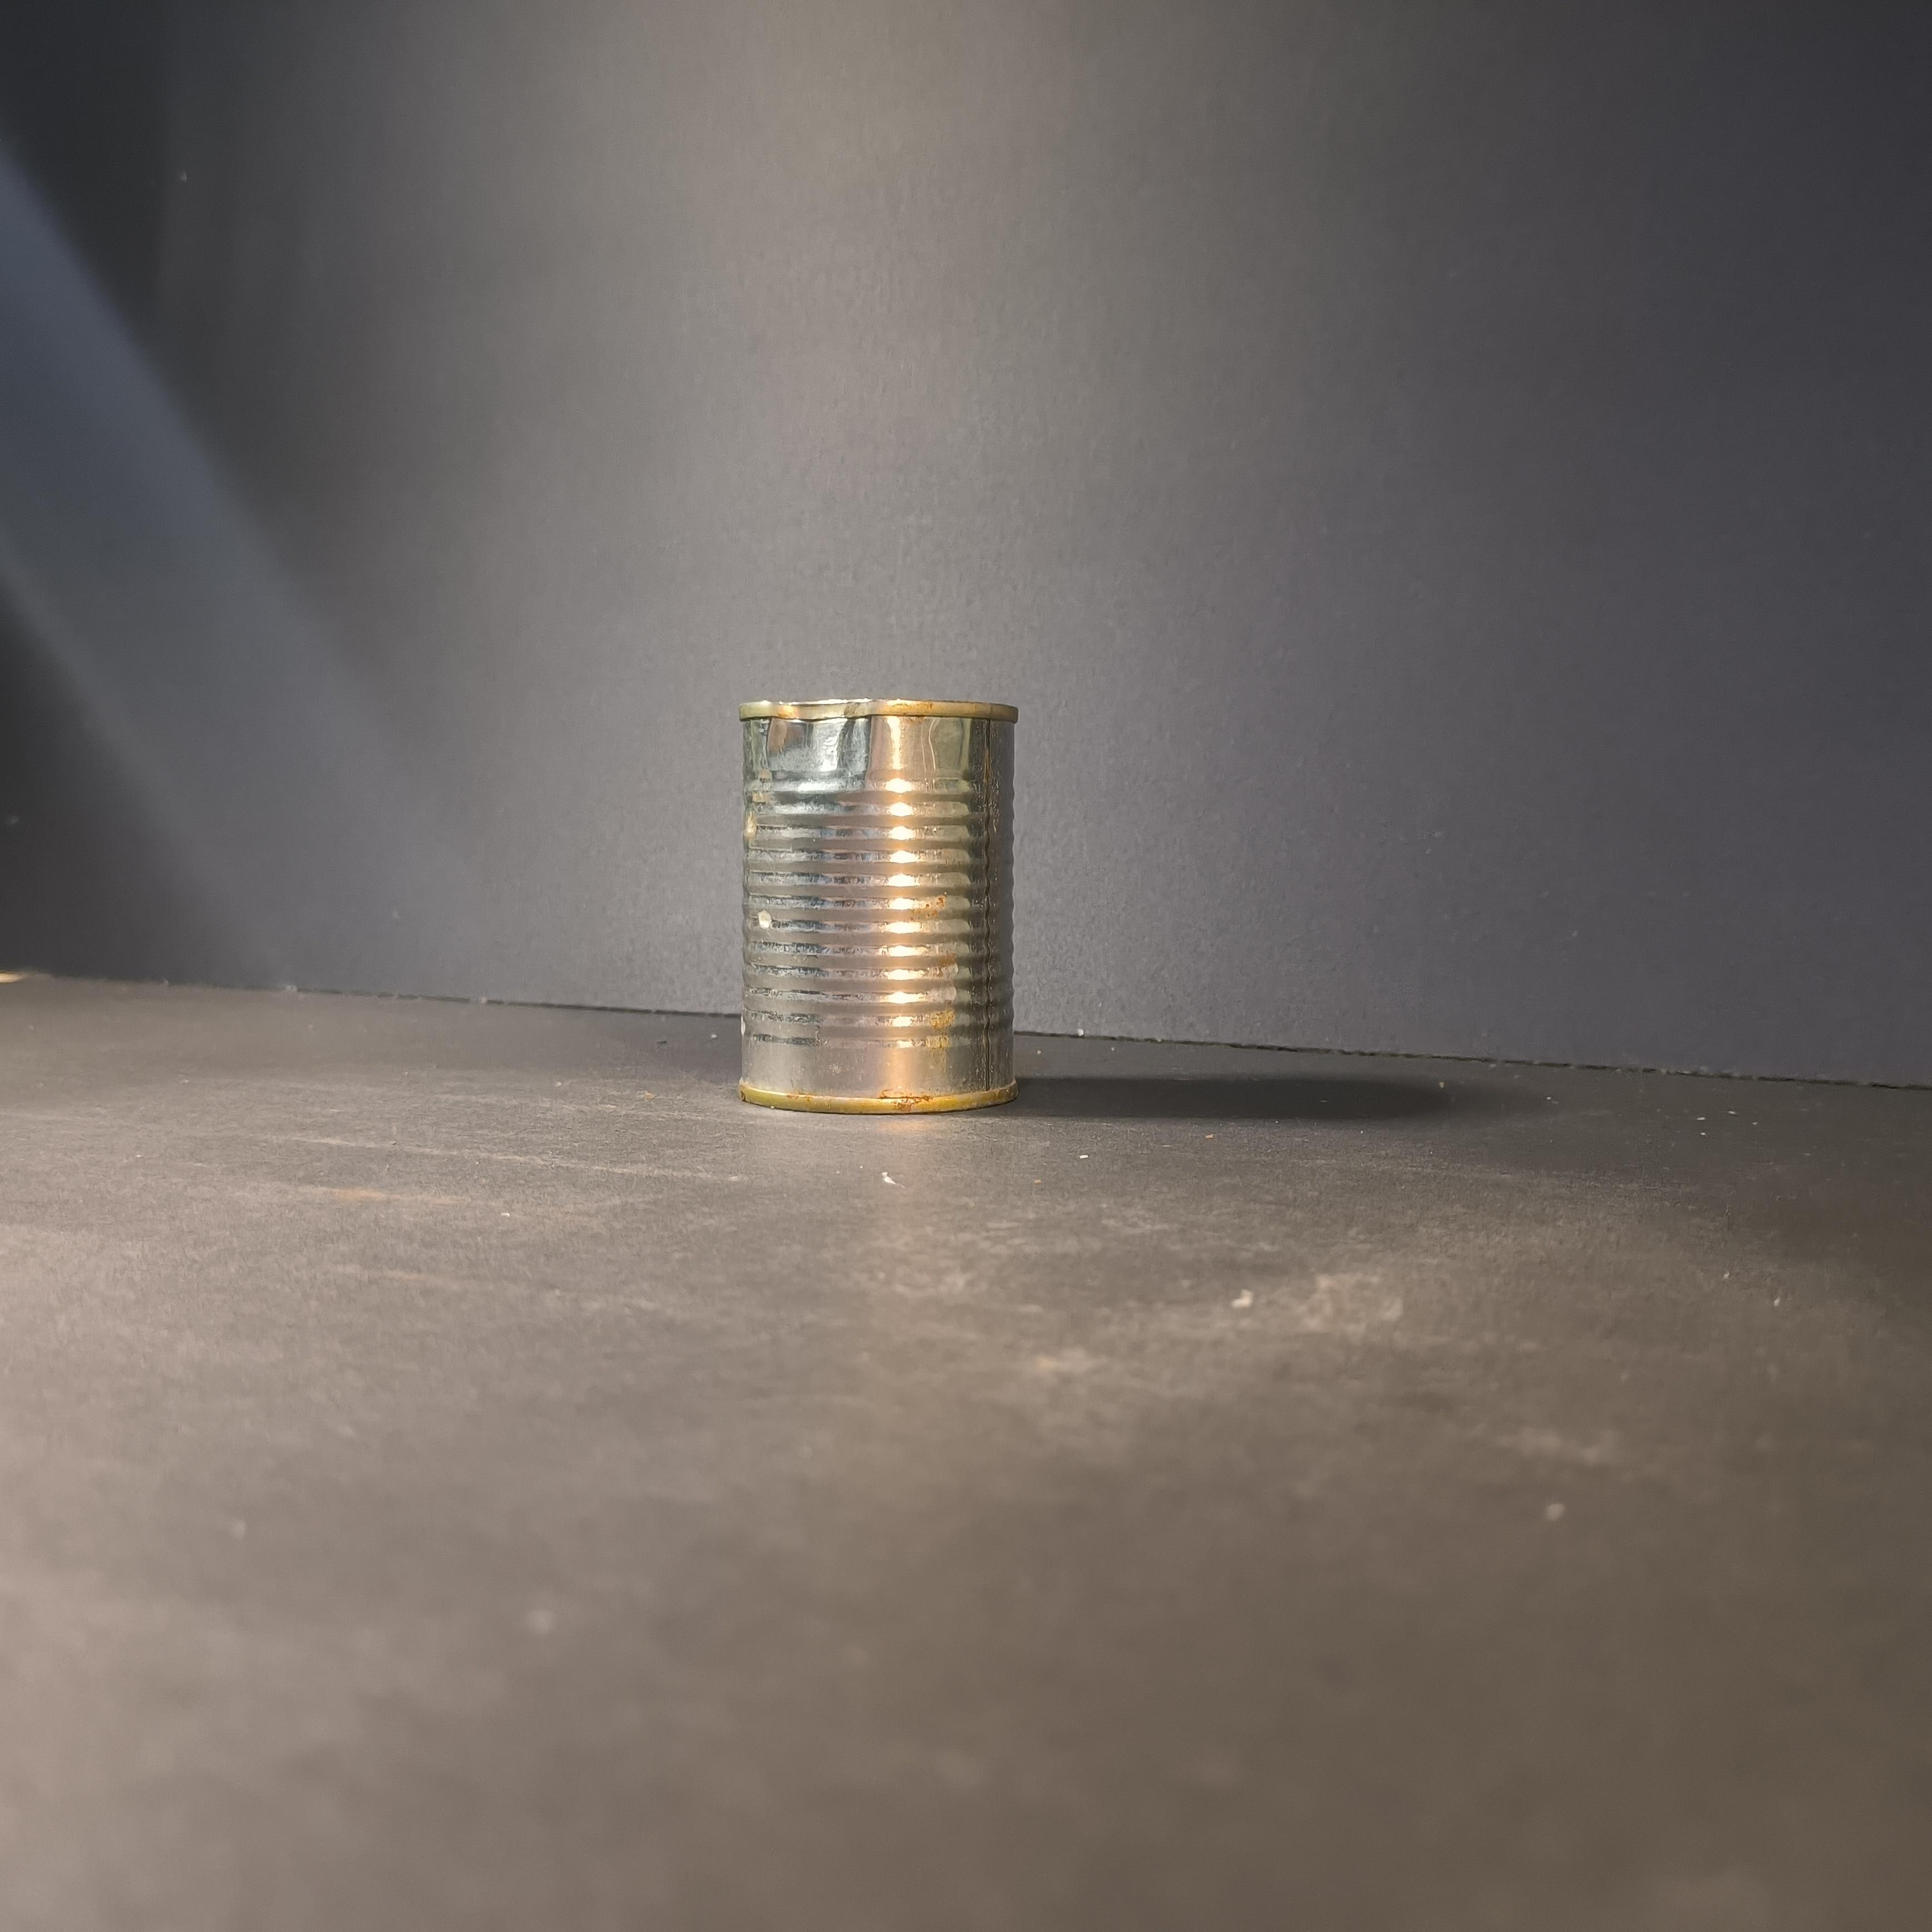Dented: (724, 676, 1044, 1122)
